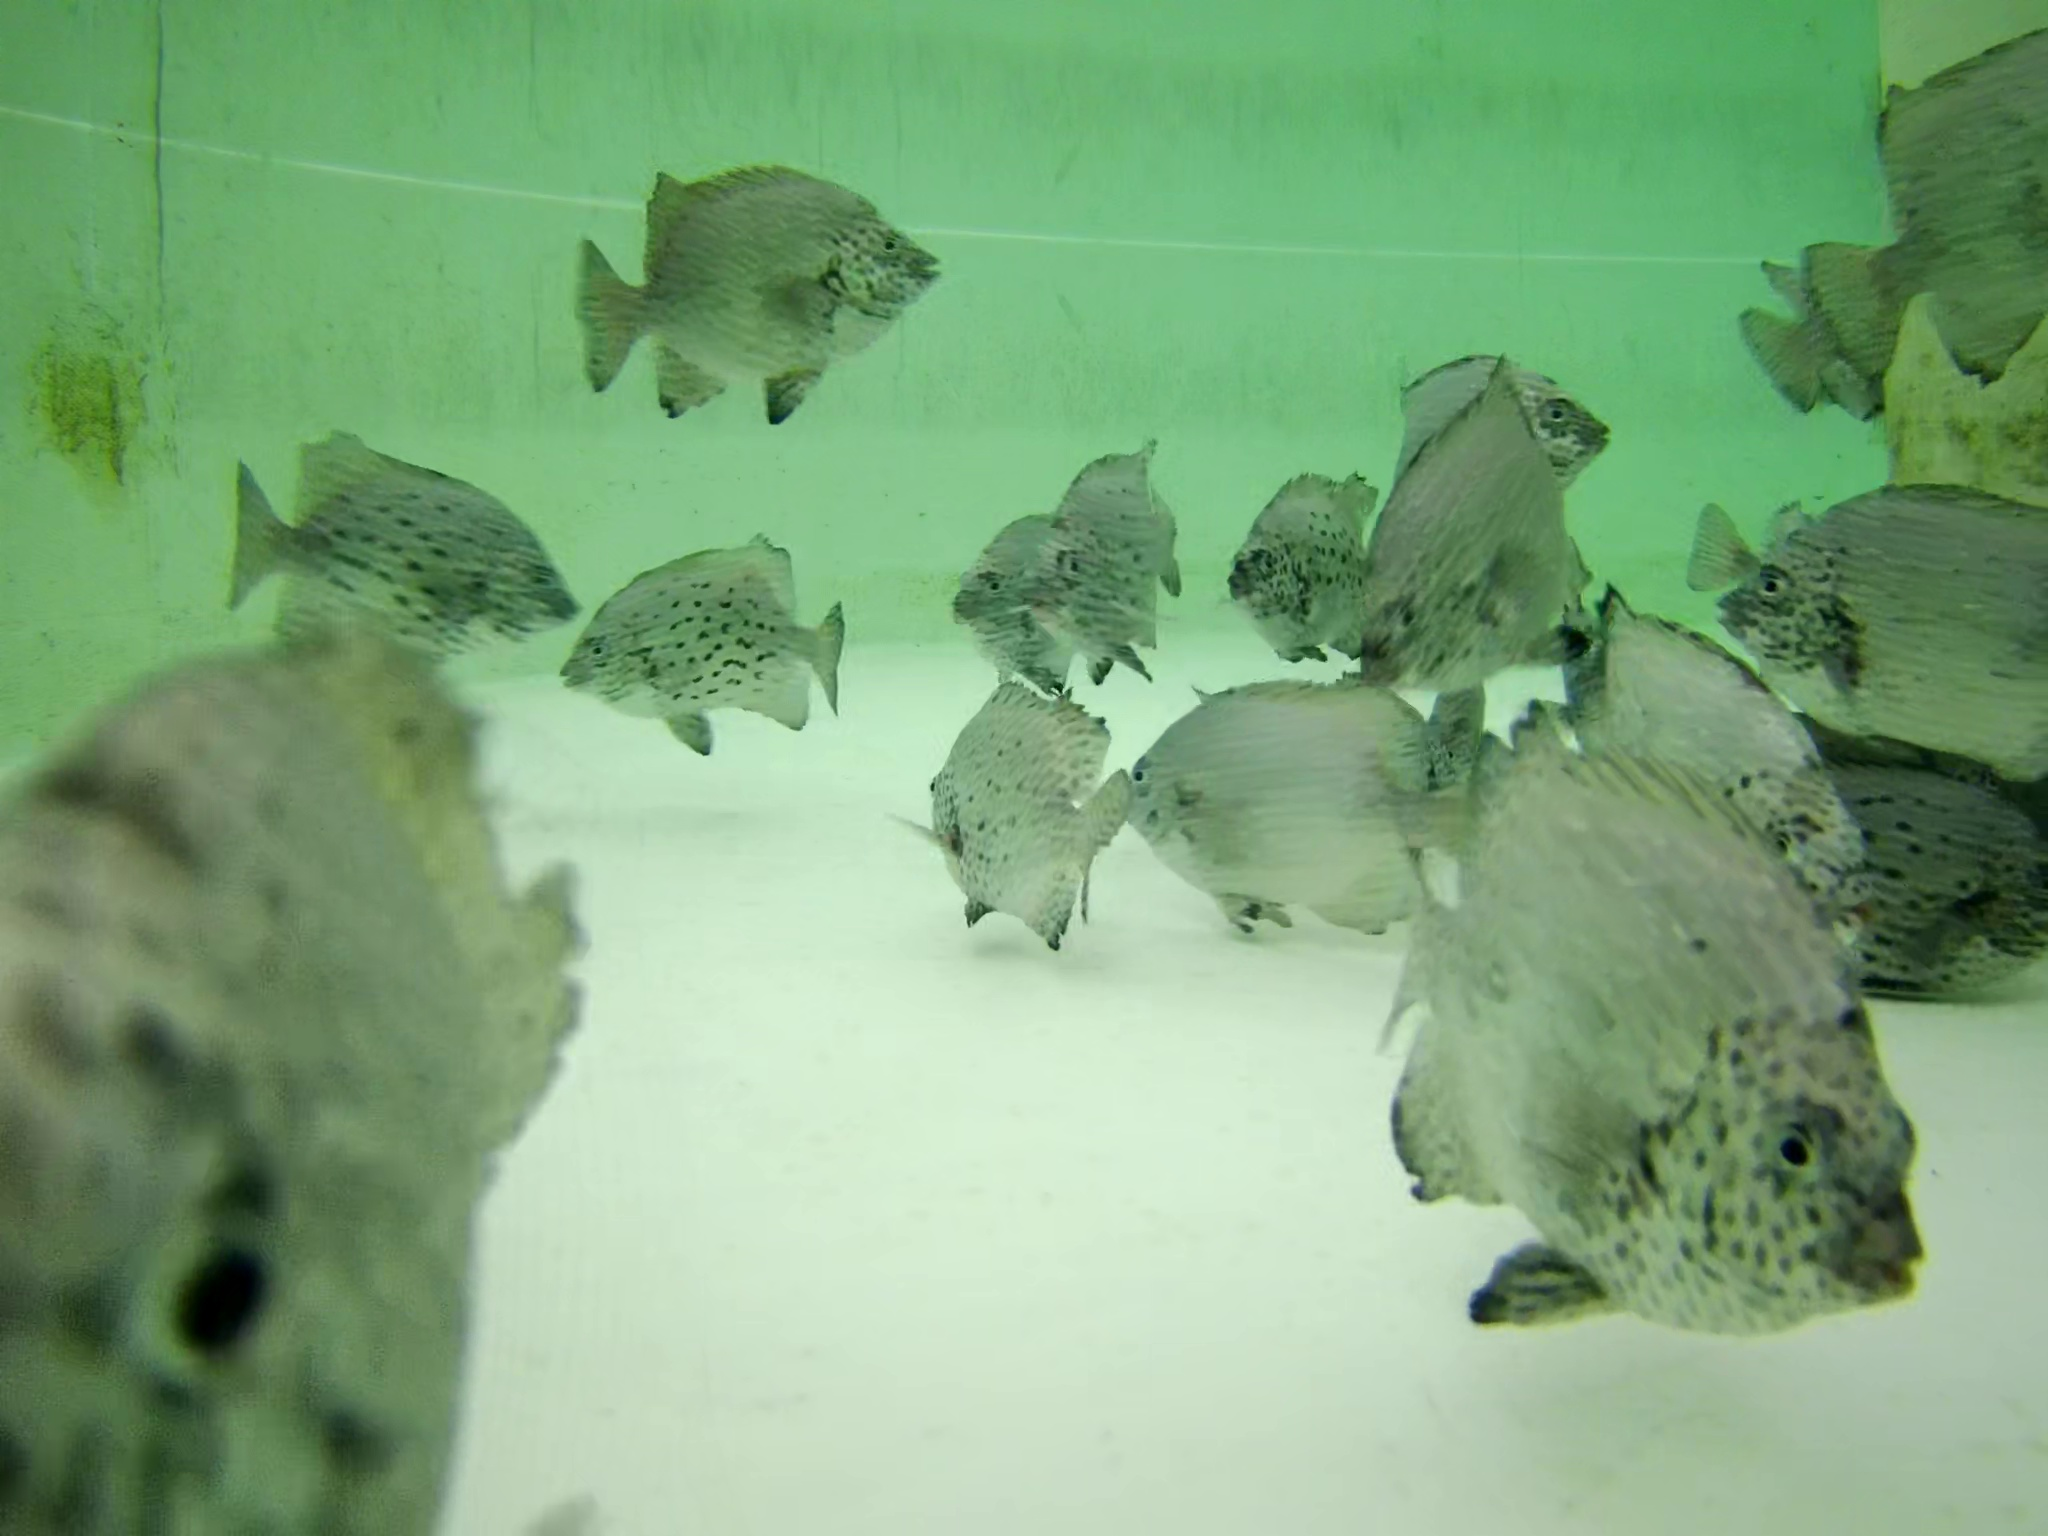fish: (5, 624, 595, 1536), (1358, 708, 1924, 1331), (1556, 602, 1867, 987), (577, 155, 942, 421), (1727, 489, 2048, 774), (1124, 678, 1485, 923), (1332, 368, 1590, 684), (1816, 19, 2048, 369), (226, 424, 574, 655), (556, 532, 845, 763), (900, 676, 1134, 954), (1817, 731, 2048, 997), (1043, 436, 1177, 666), (1229, 450, 1371, 658), (1737, 229, 1885, 426), (1413, 340, 1613, 482), (945, 505, 1080, 689), (1687, 486, 1850, 610), (1413, 662, 1506, 818)
